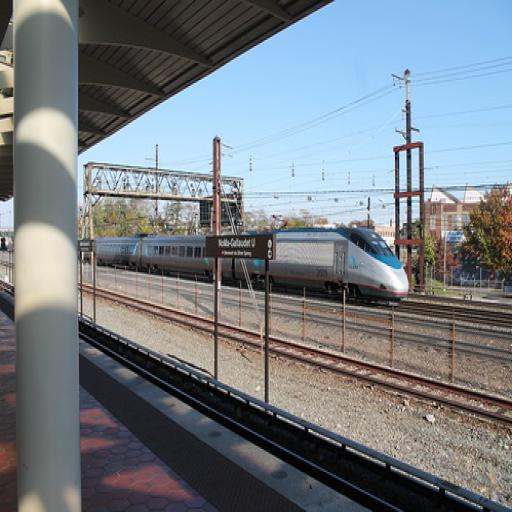platform_edge: (76, 341, 375, 512)
